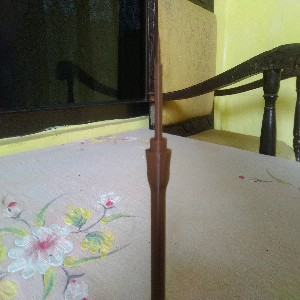solder: (145, 35, 172, 300)
